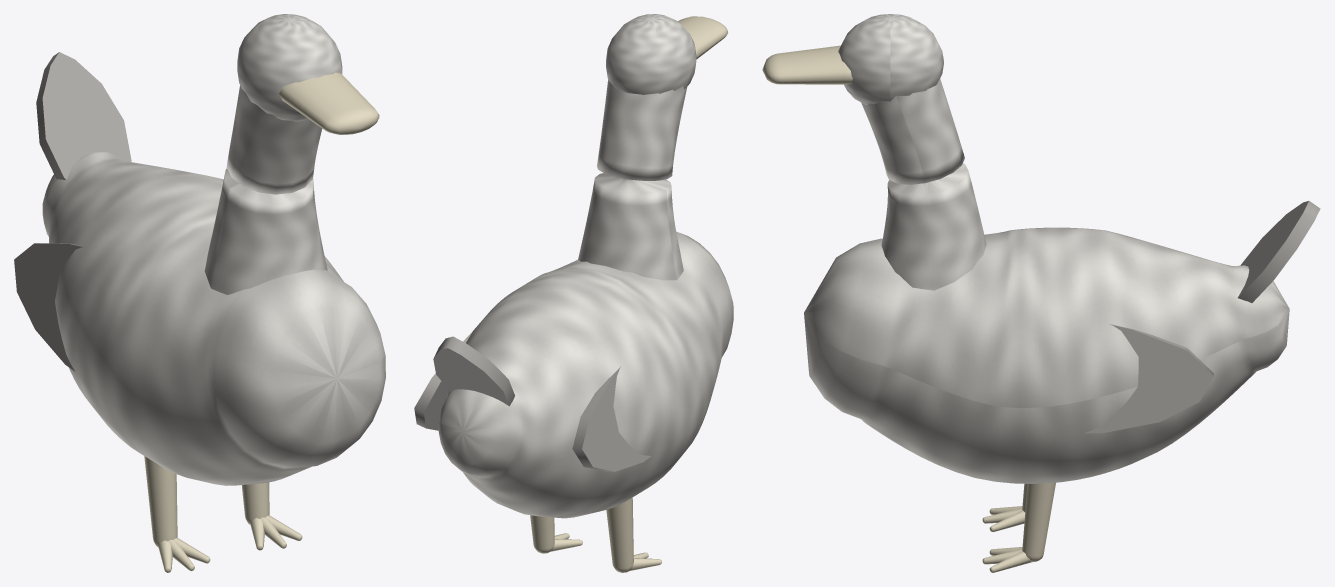
File: farm-and-working-animals-hd-goose-b4b783d5__29202.glb
3 views of the same model, side by side, from view 1: azimuth 30°, elevation 25°; view 2: azimuth 150°, elevation 25°; view 3: azimuth 270°, elevation 25° (orthographic). The views are drawn at different scales.
Visible parts, largest first — view 1: goose; view 2: goose; view 3: goose.
Part boxes in pixels (left/top/right/bottom): goose: left=14, top=14, right=385, bottom=572; goose: left=414, top=14, right=733, bottom=572; goose: left=762, top=14, right=1320, bottom=572.
Bounding box in the file's own units: 0.3238 × 0.7688 × 0.7398.
4 materials, 3 textured.
